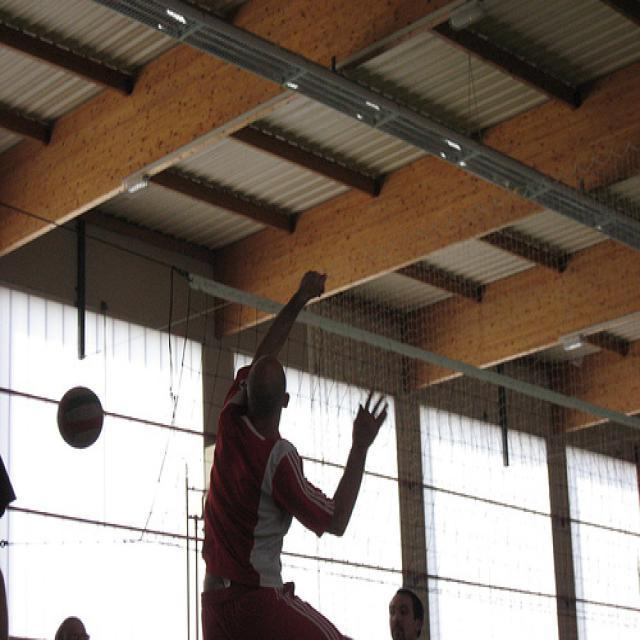volleyball: (58, 385, 104, 450)
